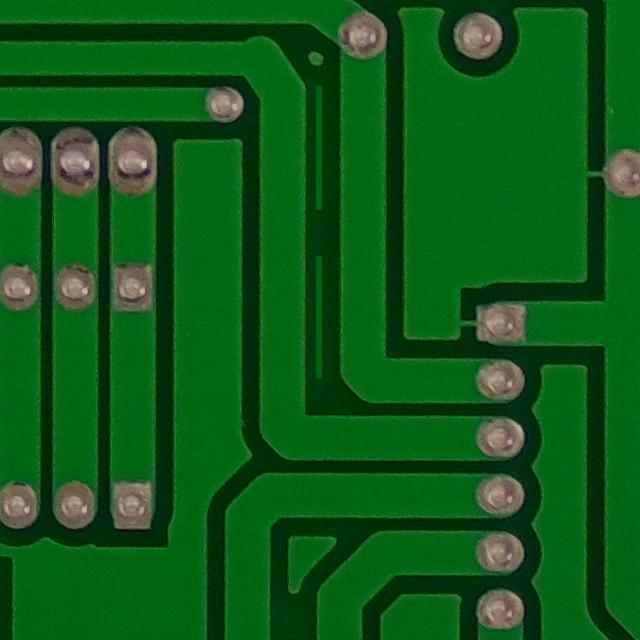spurious_copper: (294, 243, 347, 398)
